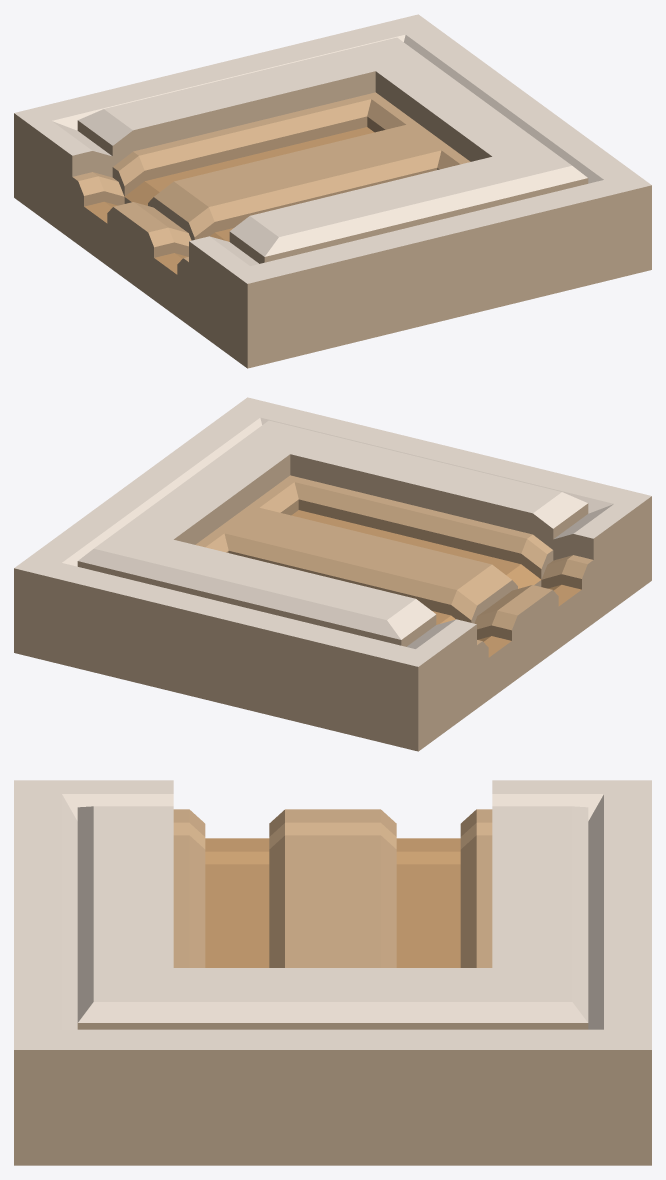
Rendered from Puzzle_Track_Button_End.fbx.
3 views of the same model, one above another, from view 1: azimuth 30°, elevation 25°; view 2: azimuth 150°, elevation 25°; view 3: azimuth 270°, elevation 25° (orthographic). The views are drawn at different scales.
Visible parts, largest first — view 1: Sandstone_Trim.Sandstone_Trim.Sandstone_Trim.Sandstone_Trim. (×2), Sandstone_Floor.Sandstone_Floor.Sandstone_Floor.Sandstone_Fl, Sandstone_4.Sandstone_4.Sandstone_4.Sandstone_4.Sandstone_4. (×2), Sandstone_Floor.Sandstone_Floor.Sandstone_Floor, Sandstone_5.Sandstone_5.Sandstone_5, Sandstone_5.Sandstone_5.Sandstone_5.Sandstone_5; view 2: Sandstone_Trim.Sandstone_Trim.Sandstone_Trim.Sandstone_Trim. (×2), Sandstone_Floor.Sandstone_Floor.Sandstone_Floor.Sandstone_Fl, Sandstone_4.Sandstone_4.Sandstone_4.Sandstone_4.Sandstone_4. (×2), Sandstone_Floor.Sandstone_Floor.Sandstone_Floor, Sandstone_5.Sandstone_5.Sandstone_5, Sandstone_5.Sandstone_5.Sandstone_5.Sandstone_5; view 3: Sandstone_Trim.Sandstone_Trim.Sandstone_Trim.Sandstone_Trim. (×2), Sandstone_Floor.Sandstone_Floor.Sandstone_Floor.Sandstone_Fl, Sandstone_Floor.Sandstone_Floor.Sandstone_Floor, Sandstone_4.Sandstone_4.Sandstone_4.Sandstone_4.Sandstone_4. (×2), Sandstone_5.Sandstone_5.Sandstone_5, Sandstone_5.Sandstone_5.Sandstone_5.Sandstone_5.
Boxes of the visible parts, <box> form: Sandstone_Trim.Sandstone_Trim.Sandstone_Trim.Sandstone_Trim. (×2): <box>14,71,651,368</box>; Sandstone_Floor.Sandstone_Floor.Sandstone_Floor.Sandstone_Fl: <box>78,37,587,256</box>; Sandstone_4.Sandstone_4.Sandstone_4.Sandstone_4.Sandstone_4. (×2): <box>73,92,470,261</box>; Sandstone_Floor.Sandstone_Floor.Sandstone_Floor: <box>14,14,651,283</box>; Sandstone_5.Sandstone_5.Sandstone_5: <box>125,127,374,241</box>; Sandstone_5.Sandstone_5.Sandstone_5.Sandstone_5: <box>84,201,187,274</box>; Sandstone_Trim.Sandstone_Trim.Sandstone_Trim.Sandstone_Trim. (×2): <box>14,454,651,751</box>; Sandstone_Floor.Sandstone_Floor.Sandstone_Floor.Sandstone_Fl: <box>78,420,587,639</box>; Sandstone_4.Sandstone_4.Sandstone_4.Sandstone_4.Sandstone_4. (×2): <box>195,475,592,644</box>; Sandstone_Floor.Sandstone_Floor.Sandstone_Floor: <box>14,397,651,666</box>; Sandstone_5.Sandstone_5.Sandstone_5: <box>291,510,540,624</box>; Sandstone_5.Sandstone_5.Sandstone_5.Sandstone_5: <box>478,584,581,657</box>; Sandstone_Trim.Sandstone_Trim.Sandstone_Trim.Sandstone_Trim. (×2): <box>14,1023,651,1165</box>; Sandstone_Floor.Sandstone_Floor.Sandstone_Floor.Sandstone_Fl: <box>77,806,588,1022</box>; Sandstone_Floor.Sandstone_Floor.Sandstone_Floor: <box>14,780,651,1049</box>; Sandstone_4.Sandstone_4.Sandstone_4.Sandstone_4.Sandstone_4. (×2): <box>173,809,492,967</box>; Sandstone_5.Sandstone_5.Sandstone_5: <box>205,864,460,967</box>; Sandstone_5.Sandstone_5.Sandstone_5.Sandstone_5: <box>205,838,460,864</box>.
Size of the model in its own units: 1 by 0.225 by 1.
